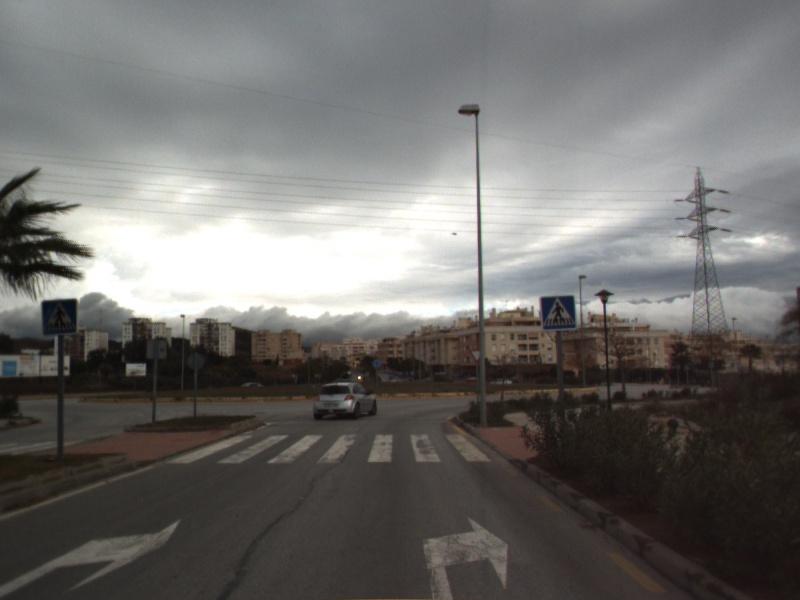RIGHT: (1, 516, 183, 598), (420, 514, 511, 600)
